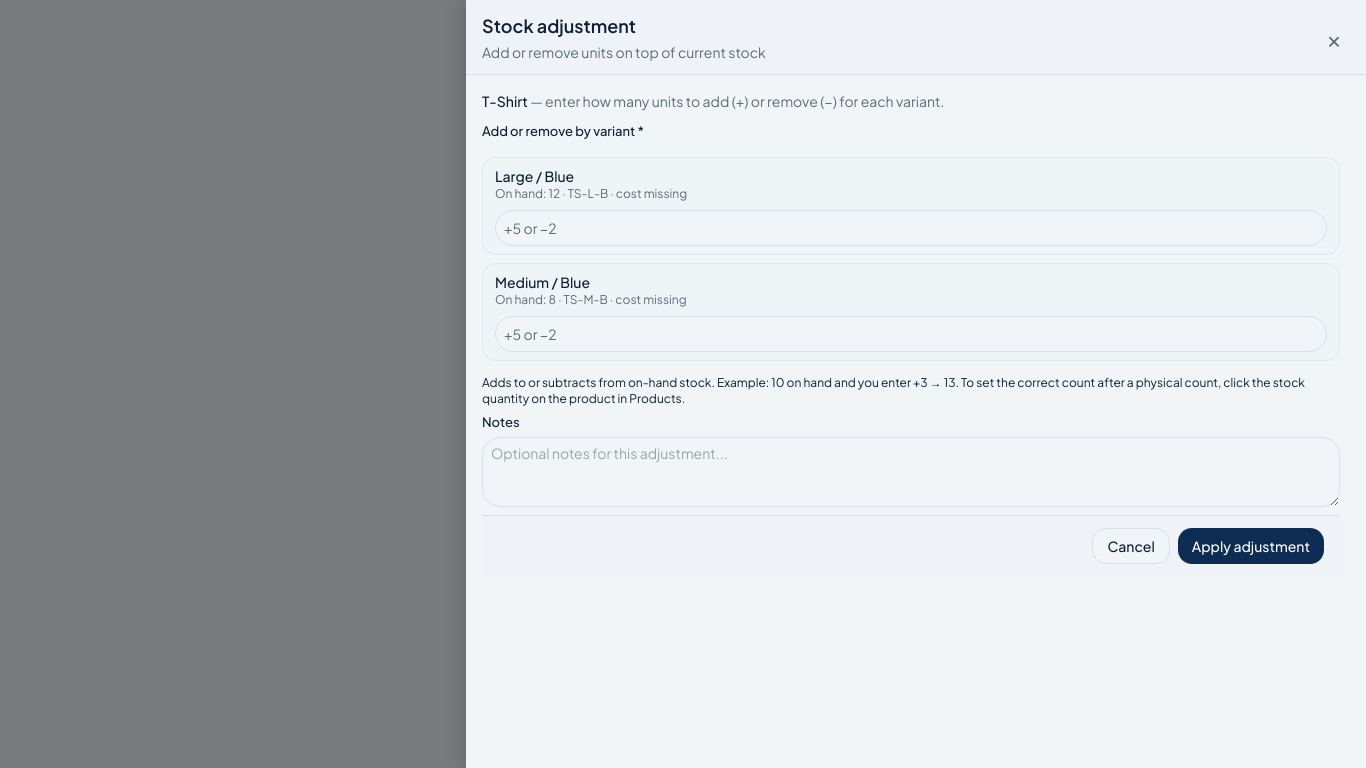
Test: StockAdjustmentModal › variant mode rejects when all adjustments are zero
Expected: the text "Large / Blue" is shown, [495,167,574,185]
Click the button "Apply adjustment" at (1251, 546), box [1178,528,1324,564]
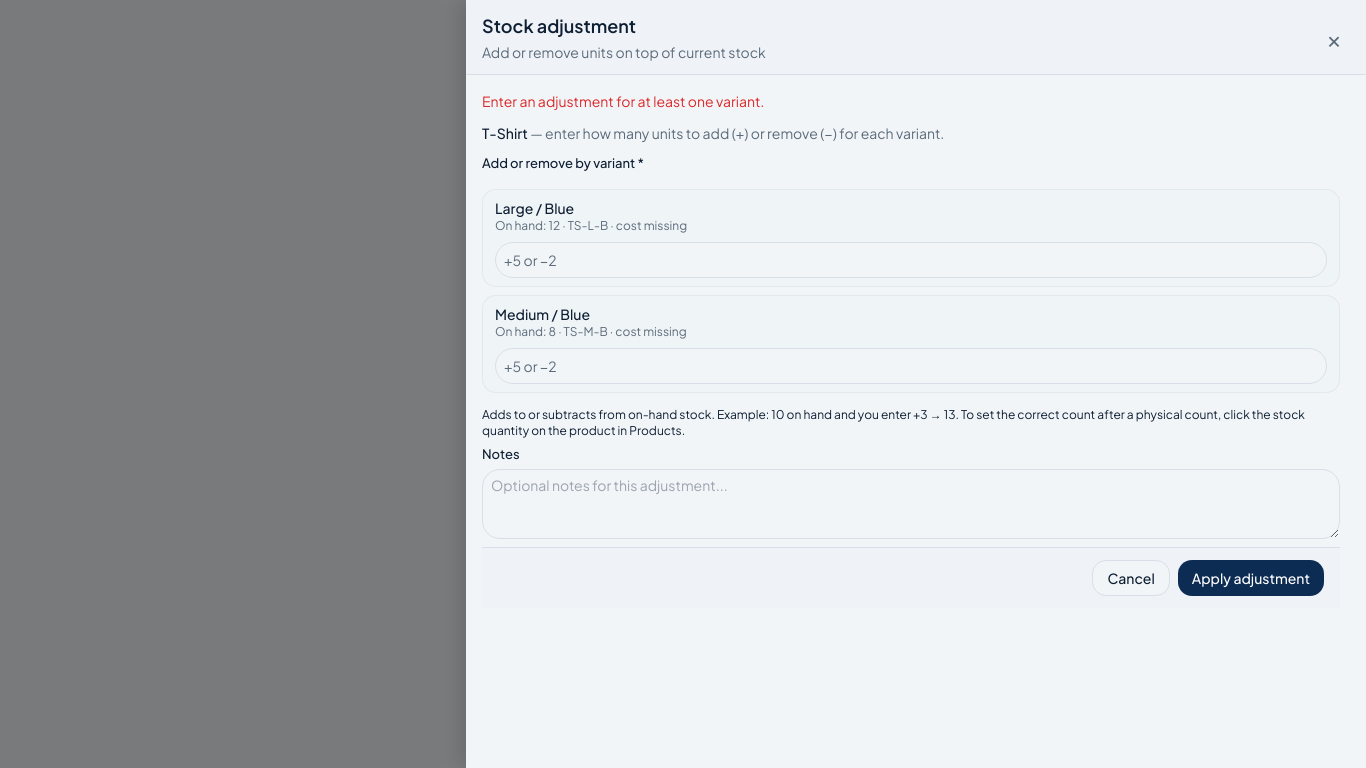
Expected: the text "Enter an adjustment for at least one variant." is shown, [482,92,764,110]
